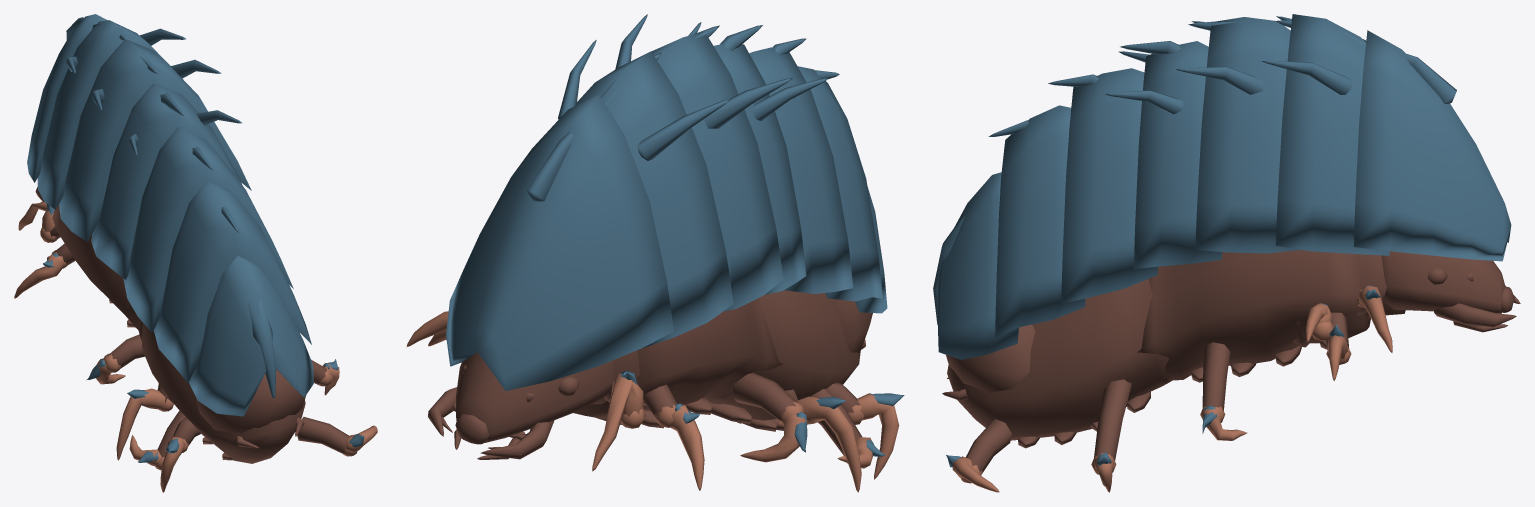
The model's file is big-spitter-attack.glb.
3 views of the same model, side by side, from view 1: azimuth 30°, elevation 25°; view 2: azimuth 150°, elevation 25°; view 3: azimuth 270°, elevation 25° (orthographic). The views are drawn at different scales.
Visible parts, largest first — view 1: body; view 2: body; view 3: body.
Boxes of the visible parts, x1,y1,x2,y2 form: body: (14, 14, 377, 492); body: (406, 14, 904, 492); body: (933, 14, 1520, 492).
Size of the model in its own units: 1.57 by 2.5 by 3.
